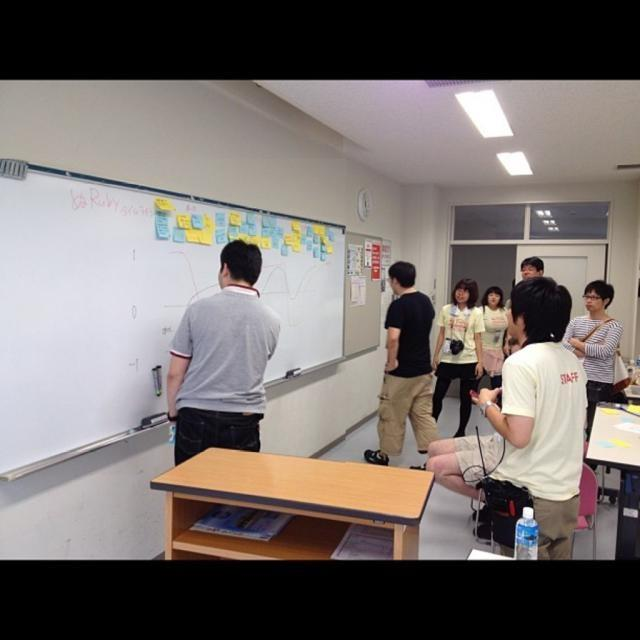Meja: (151, 444, 436, 558)
Whiteboard: (0, 159, 345, 479)
